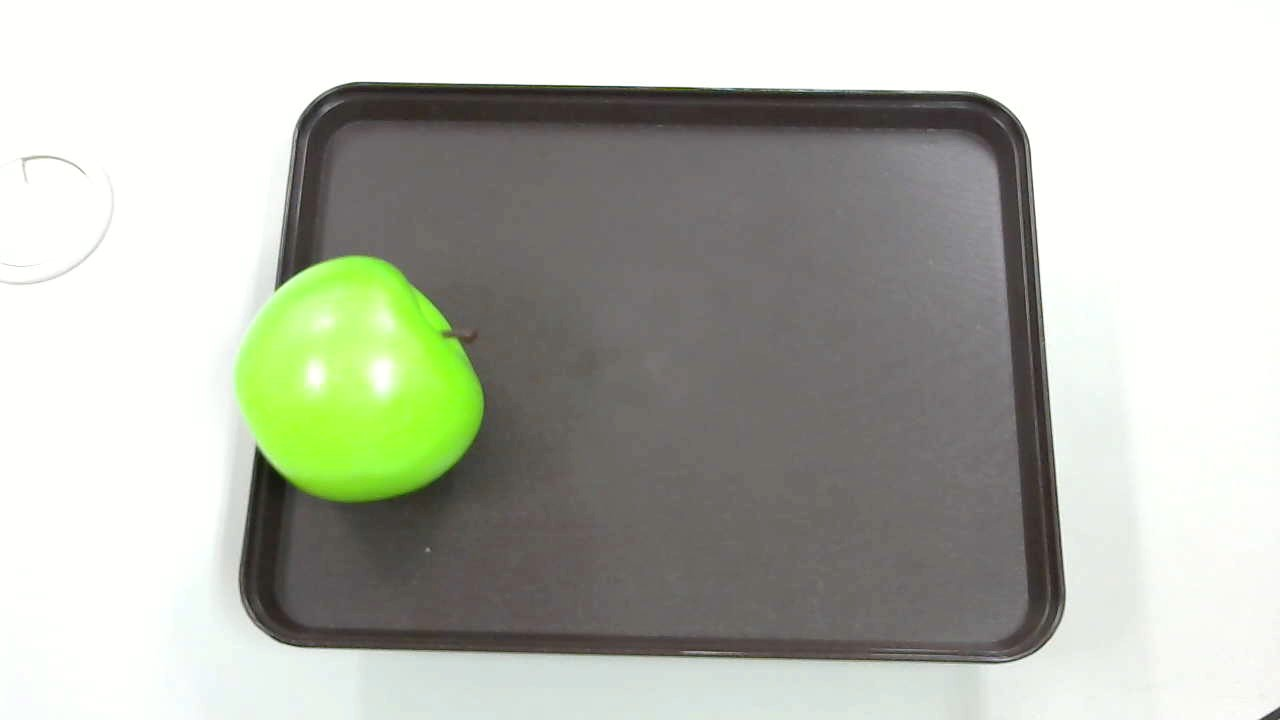green apple: (222, 251, 490, 517)
